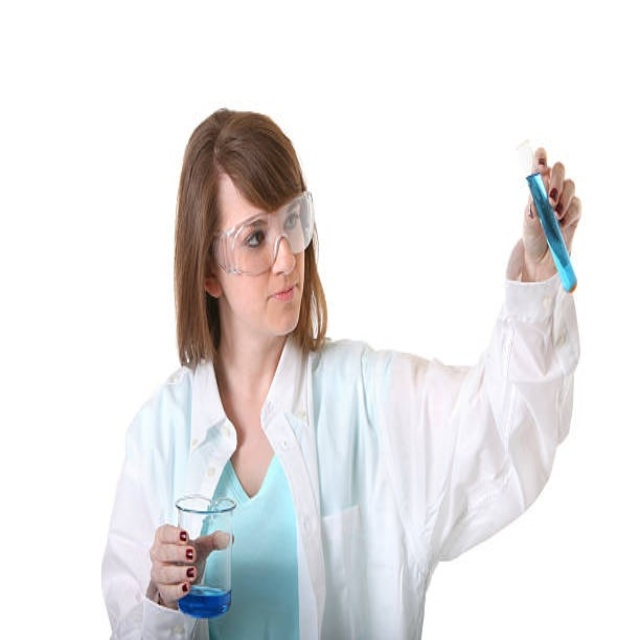Gafas: (211, 191, 316, 276)
Sin_guantes: (517, 146, 582, 279), (147, 523, 230, 608)
Sin_mascara: (262, 276, 303, 328)
